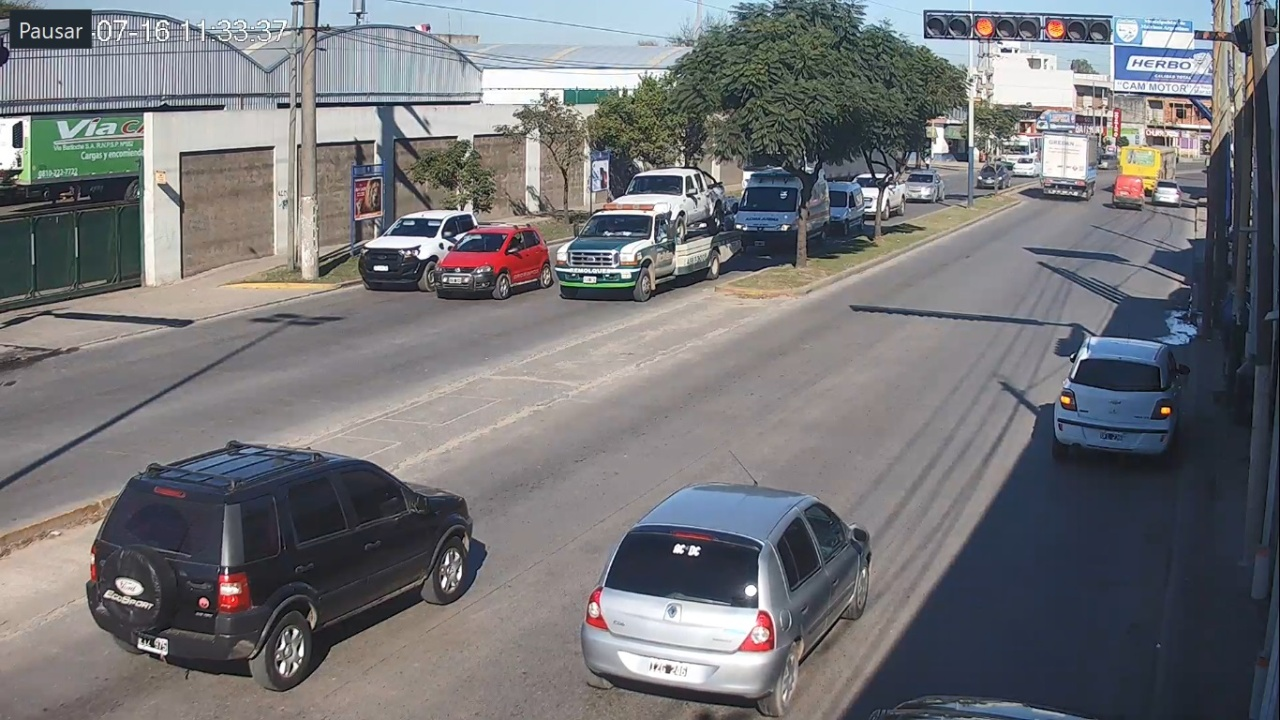car: (86, 440, 473, 693), (580, 482, 872, 715), (1054, 335, 1189, 462)
traffic light: (974, 11, 1111, 44)
